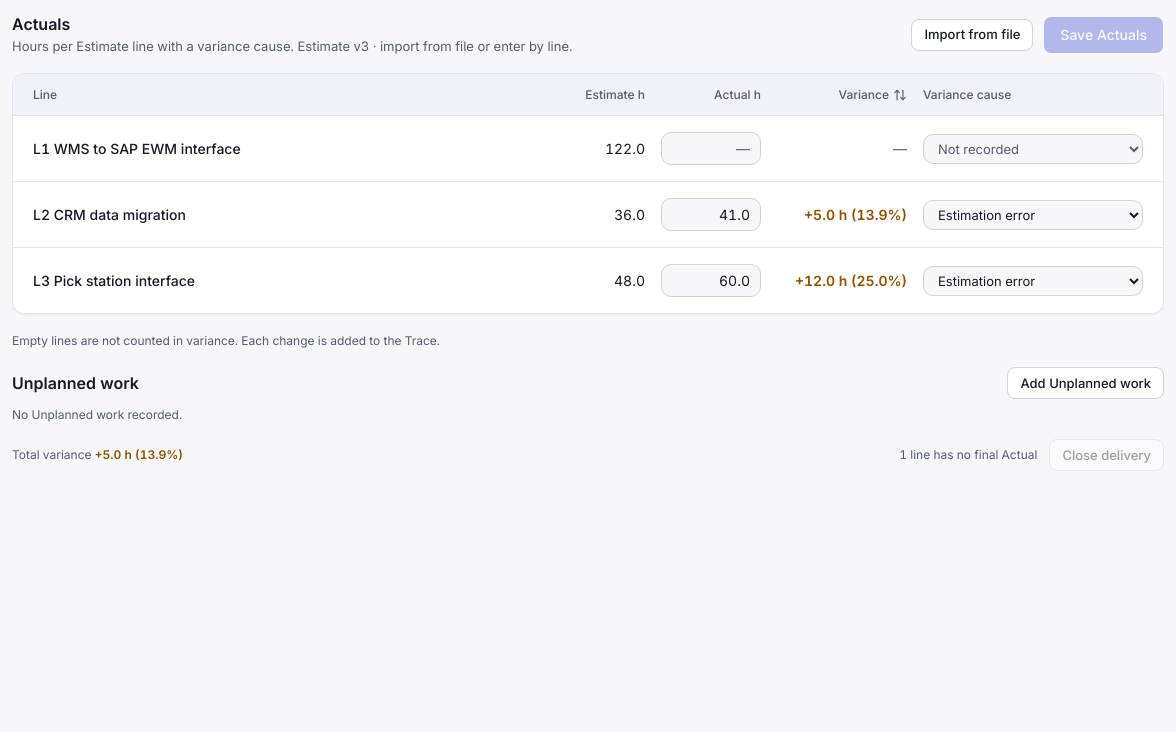
it: ActualsSection drilled from Reports › a delivery manager keeps the checkbox form, with the read-only list beside it
Step 1. Click the button "L3 Pick station interface" → (114, 280), box left=33, top=270, right=195, bottom=291
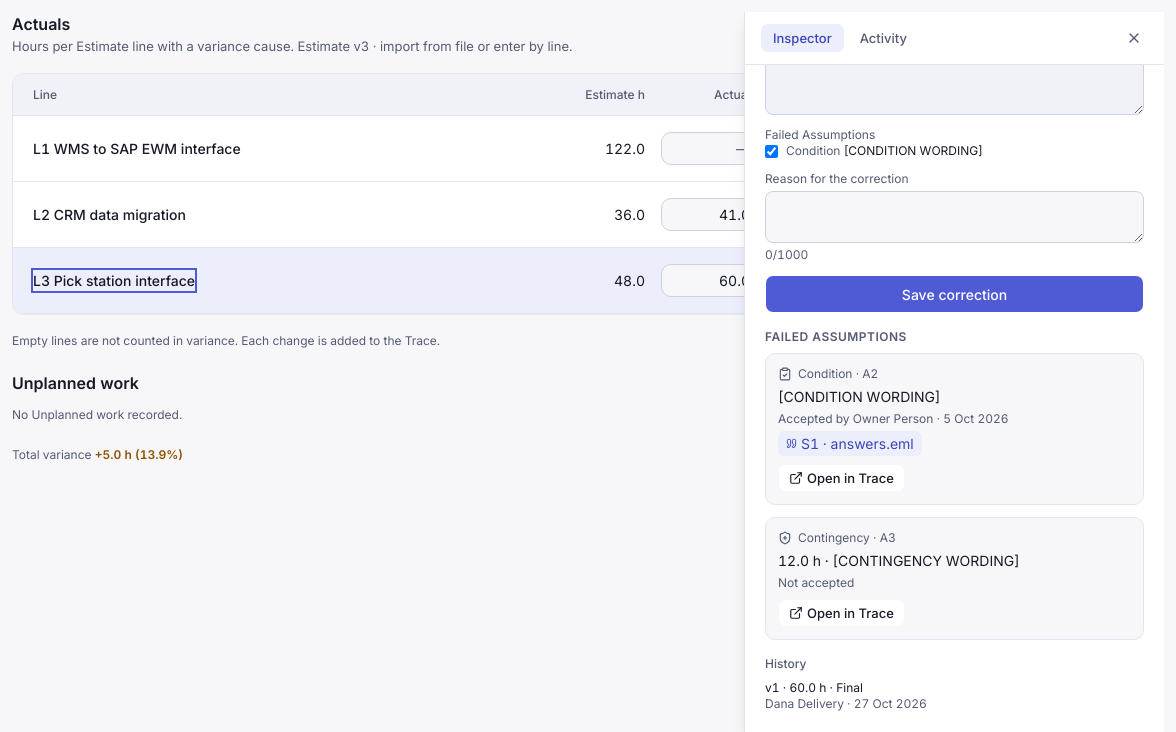
Expected: the checkbox labelled "Condition [CONDITION WORDING]" is shown, left=765, top=145, right=778, bottom=158
Expected: the element "Failed Assumptions" is shown, left=765, top=329, right=1144, bottom=640
